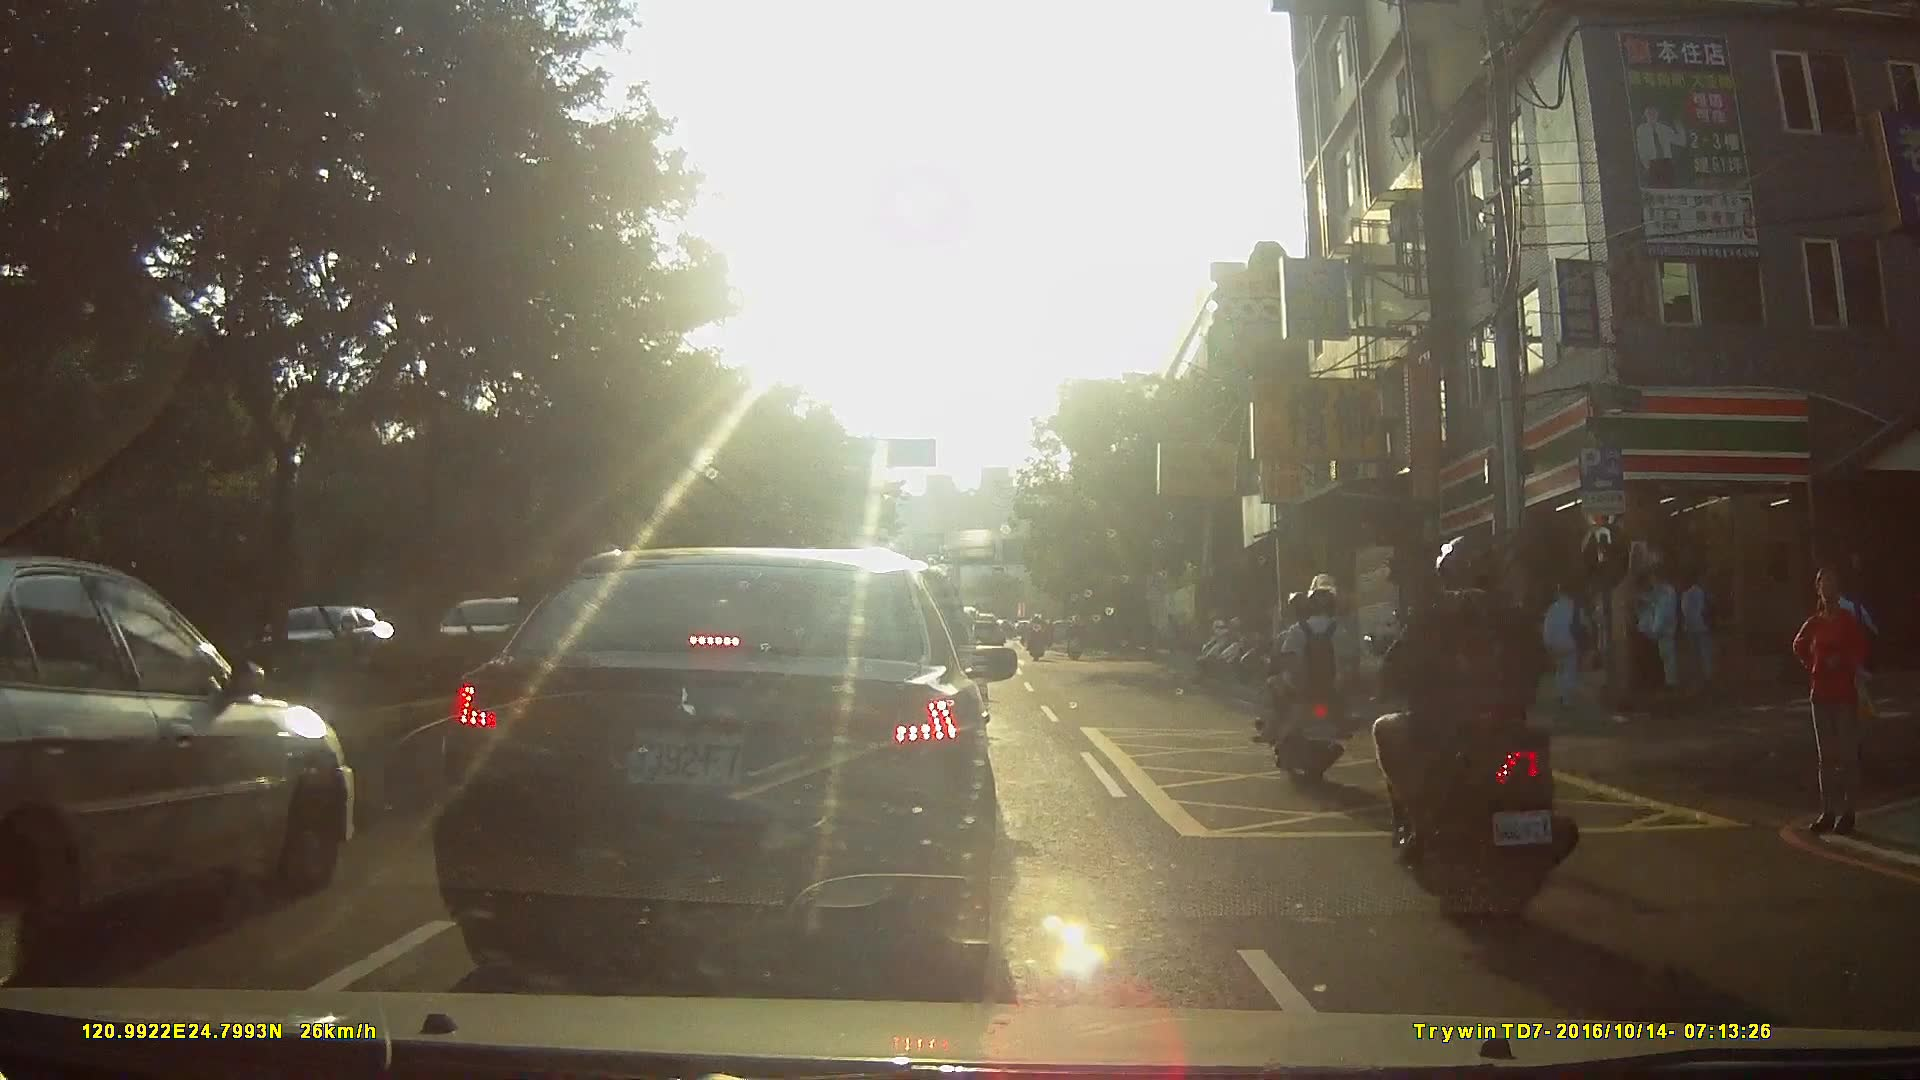pedestrian: (1793, 567, 1875, 839), (1637, 567, 1679, 694), (1680, 565, 1722, 687), (1628, 569, 1665, 701)
rider: (1371, 532, 1572, 931), (1250, 574, 1358, 781), (1026, 611, 1049, 663), (1064, 615, 1086, 663)
vehicle: (441, 538, 1040, 977), (3, 552, 363, 950)
